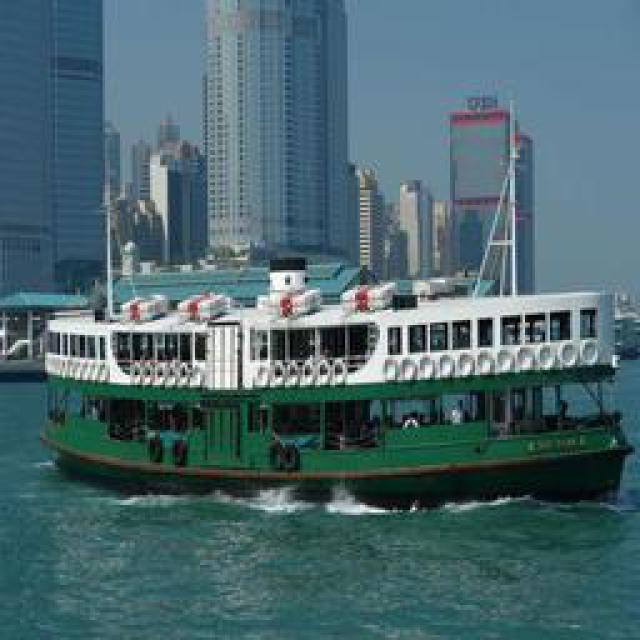Ship: (40, 153, 633, 511)
